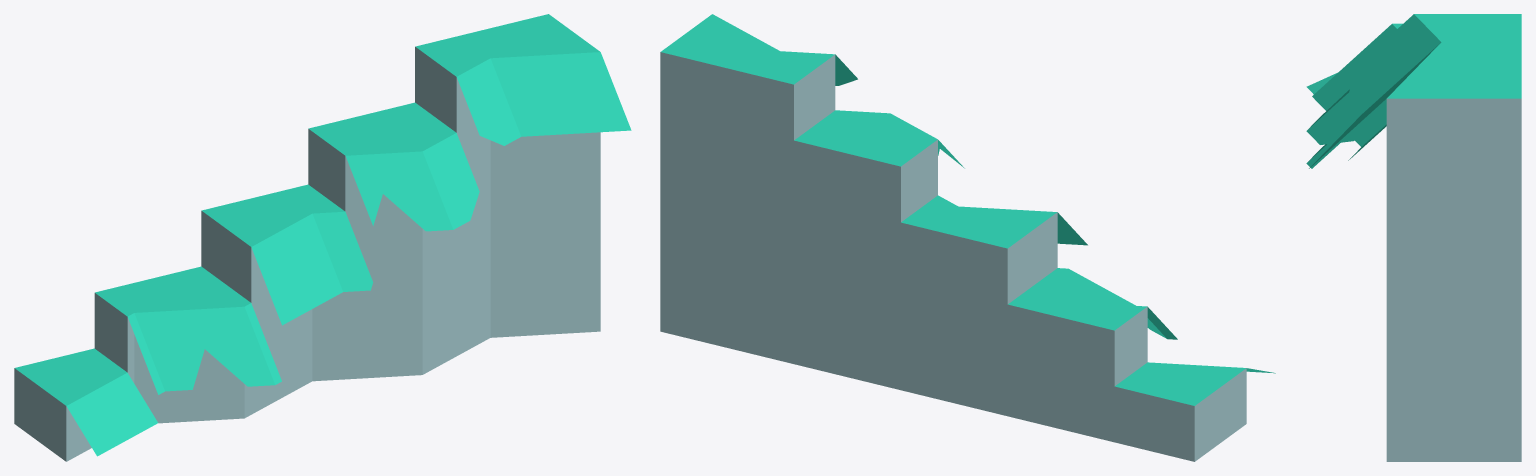
File: cliff_stairBorder_lower_right_stone.fbx
3 renders of one model, left to right at view 1: azimuth 30°, elevation 25°; view 2: azimuth 150°, elevation 25°; view 3: azimuth 270°, elevation 25°, orthographic. The views are drawn at different scales.
Visible parts, largest first — view 1: cliff_top_stone; view 2: cliff_top_stone; view 3: cliff_top_stone.
Part boxes in pixels (bbox=[...]): cliff_top_stone: bbox=[14, 14, 631, 461]; cliff_top_stone: bbox=[660, 14, 1275, 461]; cliff_top_stone: bbox=[1306, 14, 1521, 461].
Bounding box in the file's own units: 10 × 5 × 2.68.
